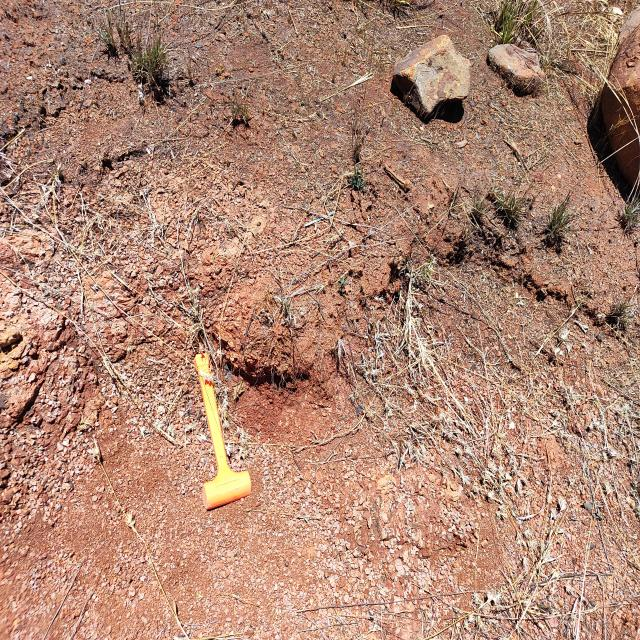Orange_hammer: (192, 351, 252, 510)
